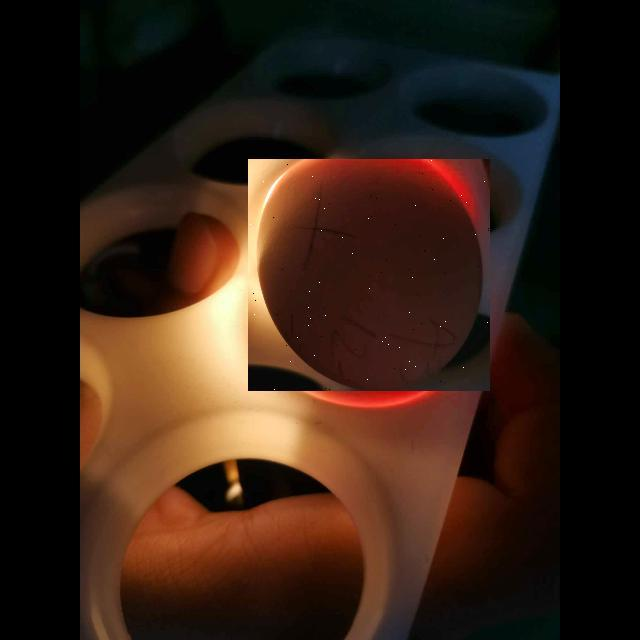Fertile: (248, 159, 490, 391)
